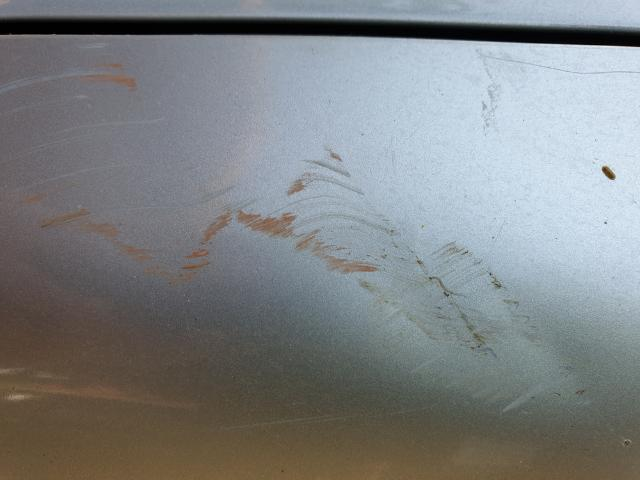scratch: (0, 43, 567, 413)
